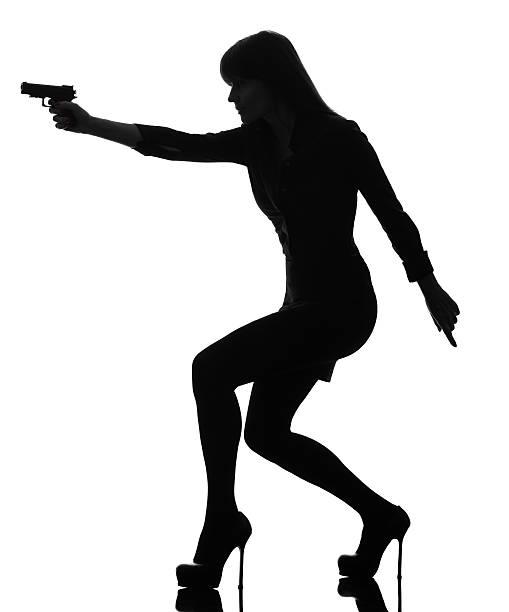weapon: (18, 76, 84, 120)
